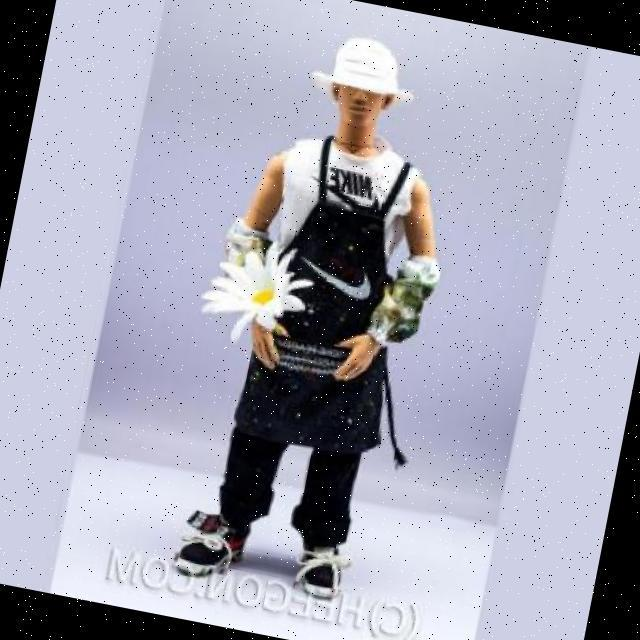Nike: (294, 251, 382, 305), (307, 160, 391, 216)
